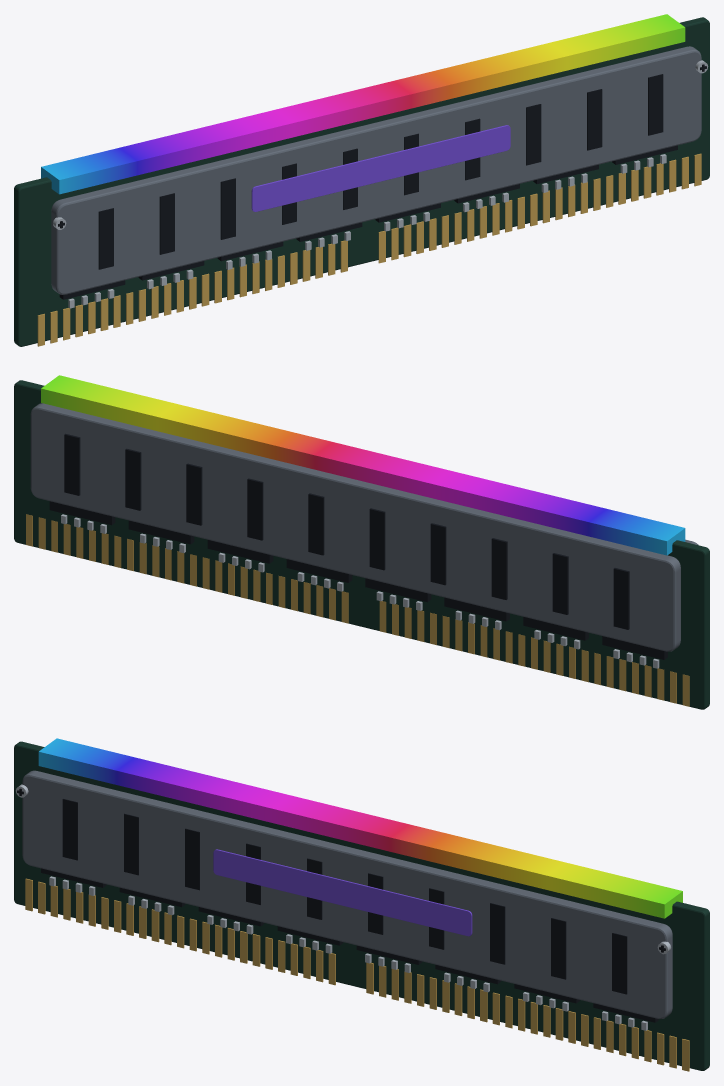
File: nexrig-ram.glb
3 renders of one model, top to bottom at view 1: azimuth 30°, elevation 25°; view 2: azimuth 150°, elevation 25°; view 3: azimuth 330°, elevation 25°, orthographic.
Parts seen in each view (by area): view 1: Original generic memory module; view 2: Original generic memory module; view 3: Original generic memory module.
Boxes of the visible parts, bbox=[...] form: Original generic memory module: bbox=[14, 14, 709, 346]; Original generic memory module: bbox=[14, 375, 709, 709]; Original generic memory module: bbox=[14, 738, 709, 1071].
Bounding box in the file's own units: 1.32 × 0.3011 × 0.1165.
